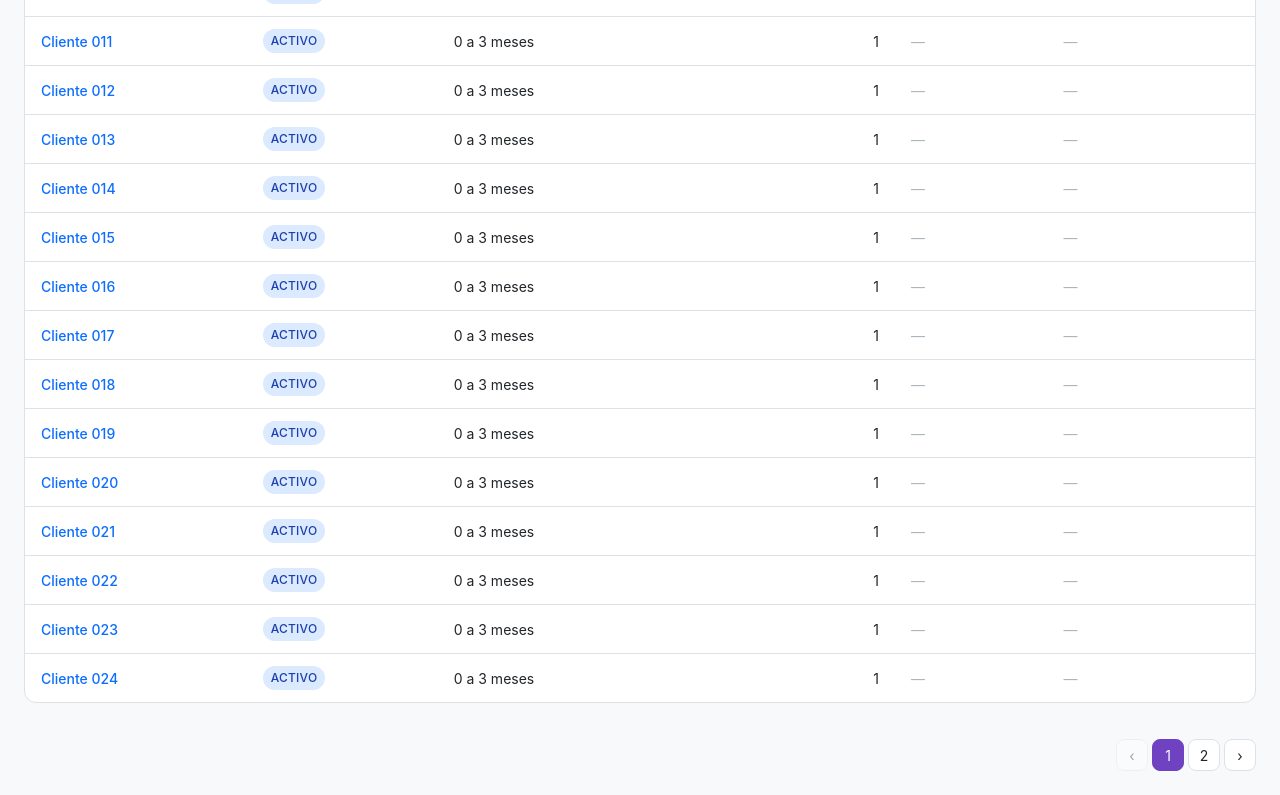
Test: MisClientesPage › changing a filter resets pagination back to page 1
(page scrolled)
Click the button "2". click: (1204, 755)
box: [1188,739,1220,771]
(page scrolled)
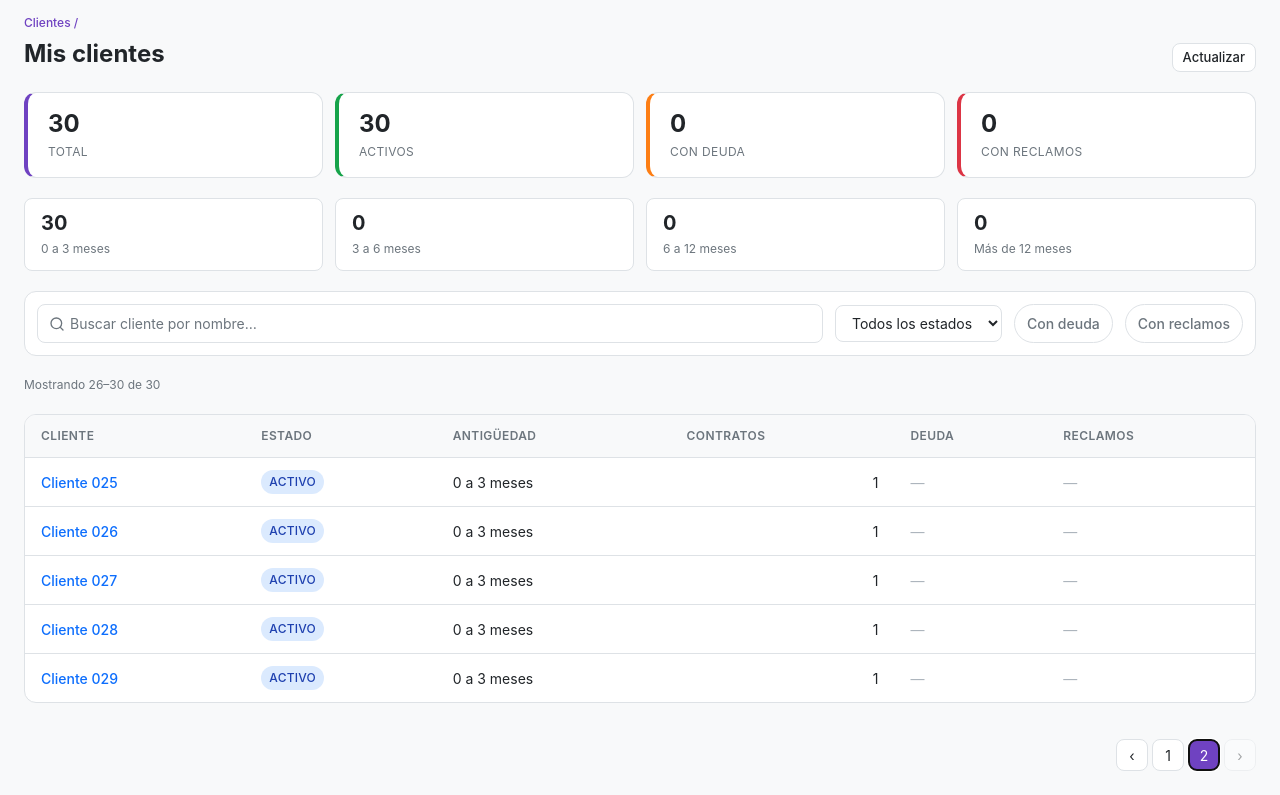
Expected: the text "Mostrando 26–30 de 30" is shown, [24,377,160,392]
// Typing a search resets to page 1 (all 30 match "cliente").
Type "cliente" into the search field labelled "Buscar cliente por nombre". click: (430, 324)
box: [37,304,823,343]
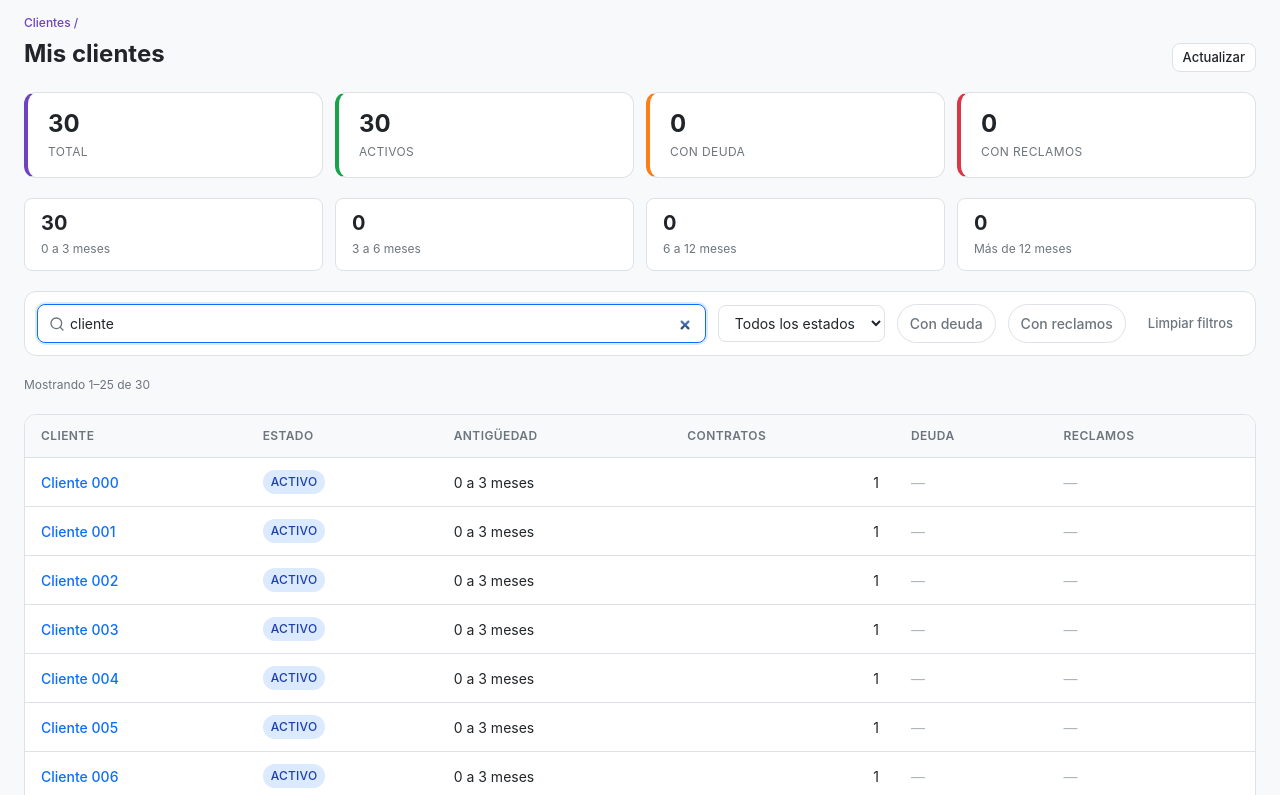
Expected: the text "Mostrando 1–25 de 30" is shown, [24,377,150,392]
